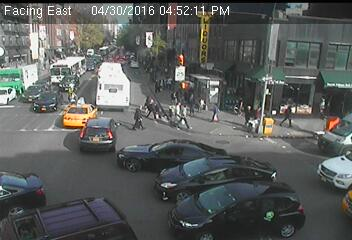neg: (134, 1, 172, 51), (291, 159, 328, 208), (93, 129, 126, 173), (176, 142, 205, 180), (253, 46, 281, 83), (261, 164, 283, 195), (183, 29, 201, 52), (210, 71, 226, 93), (90, 57, 106, 78), (63, 115, 78, 134), (41, 61, 55, 80), (16, 71, 30, 90), (70, 39, 81, 55), (92, 39, 98, 46), (65, 48, 69, 53), (86, 43, 90, 48)
pos: (175, 104, 197, 133), (279, 102, 300, 130), (240, 100, 260, 126), (169, 100, 188, 126), (206, 98, 225, 124), (316, 95, 335, 120), (253, 105, 270, 129), (131, 106, 147, 127), (167, 86, 183, 107), (147, 101, 162, 121), (150, 78, 164, 95), (141, 94, 154, 111)
